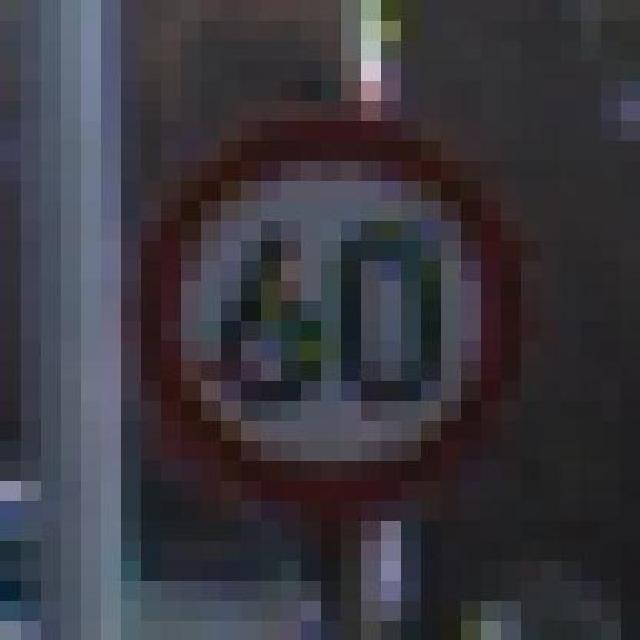forb_speed_over_60: (149, 116, 518, 498)
